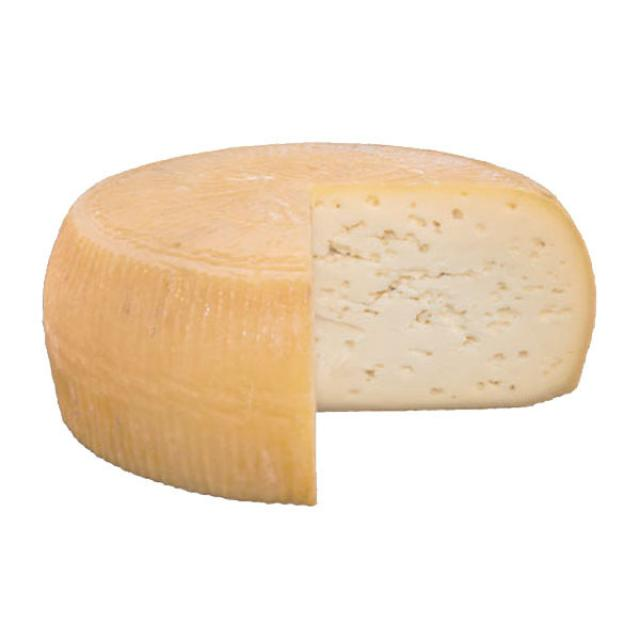Cheese: (45, 130, 591, 533)
